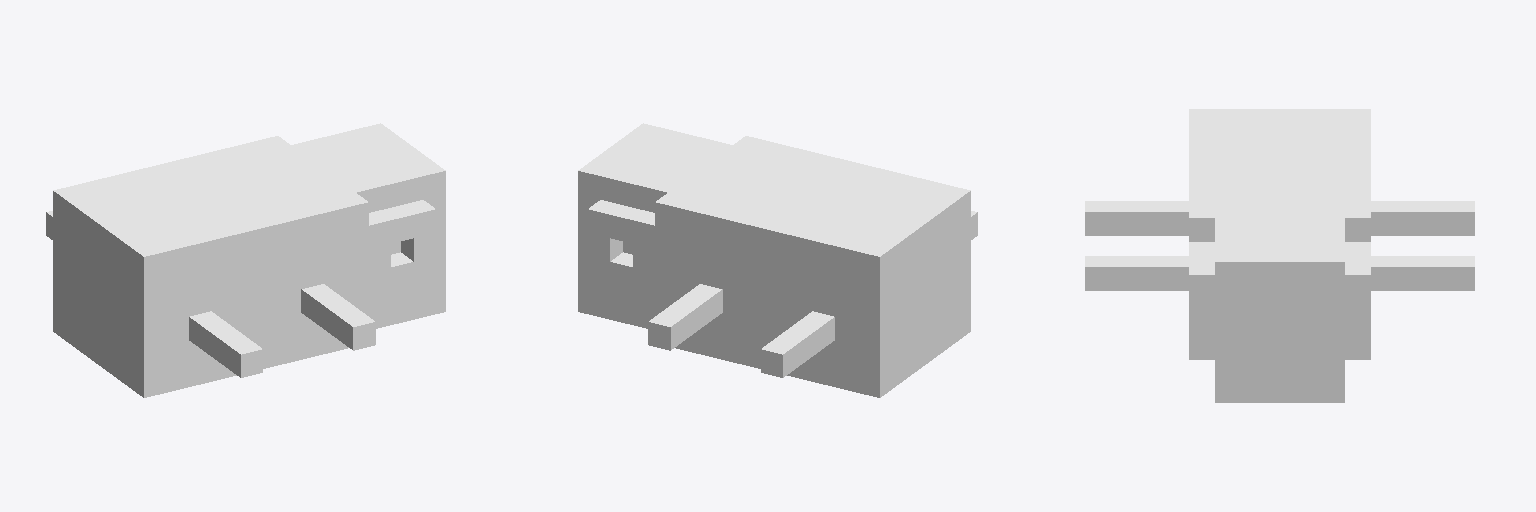
File: flatsheep.obj
The picture shows the model from 3 angles: view 1: azimuth 30°, elevation 25°; view 2: azimuth 150°, elevation 25°; view 3: azimuth 270°, elevation 25°; orthographic projection.
Parts seen in each view (by area): view 1: flatsheep; view 2: flatsheep; view 3: flatsheep.
Boxes of the visible parts, x1,y1,x2,y2 form: flatsheep: [46, 123, 445, 397]; flatsheep: [578, 123, 977, 397]; flatsheep: [1085, 109, 1474, 402].
Bounding box in the file's own units: 14 × 6 × 15.